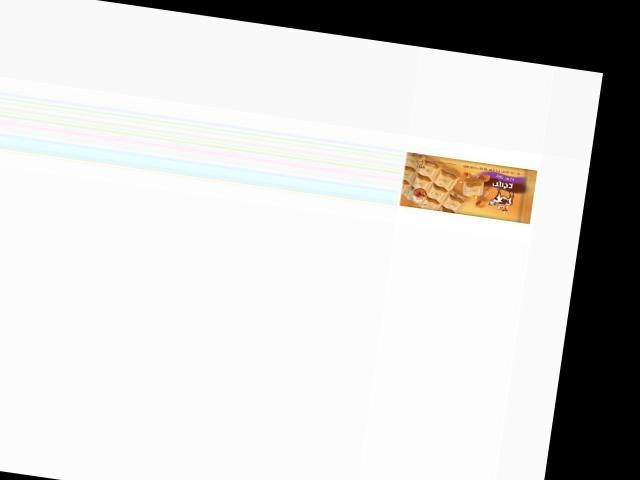chocolate: (399, 147, 542, 224)
